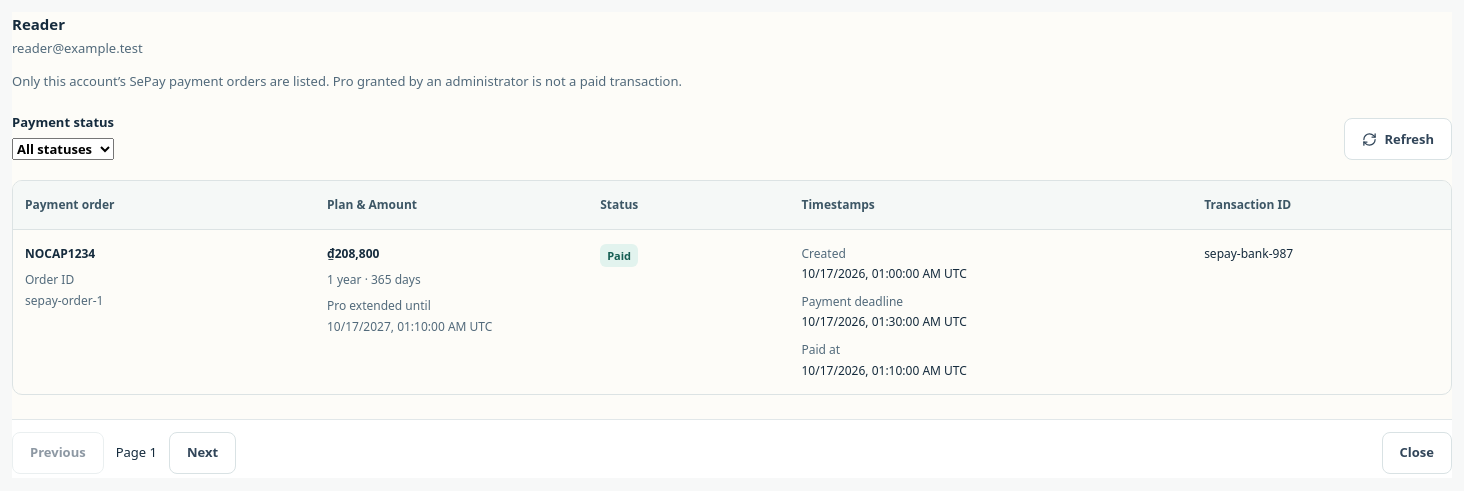
Test case: administrator transaction history › paginates server results and resets to the first page when filtering
Expected: the text "NOCAP1234" is shown, left=25, top=245, right=95, bottom=262
Expected: the button "Previous" is disabled, left=12, top=432, right=104, bottom=474
Click the button "Next" at (203, 453), box left=169, top=432, right=236, bottom=474
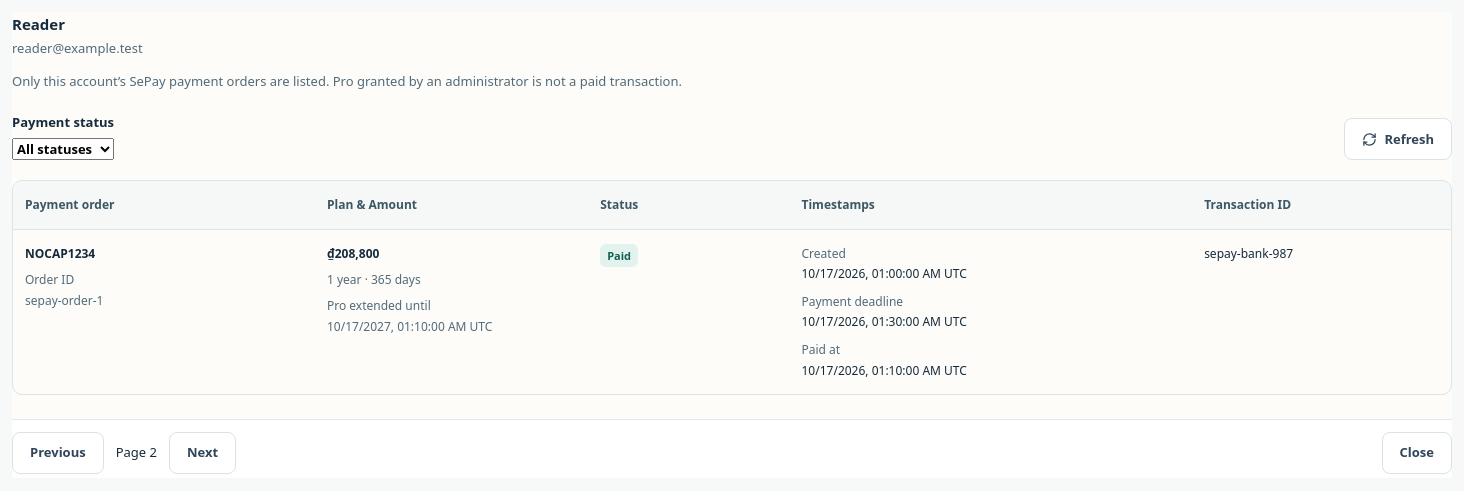
Expected: the text "NOCAP1234" is shown, left=25, top=245, right=95, bottom=262
Result: the text "Page 2" is shown at left=116, top=442, right=157, bottom=463
Select "Expired" in the dropdown labelled "Payment status" at (63, 149), box left=12, top=138, right=114, bottom=160
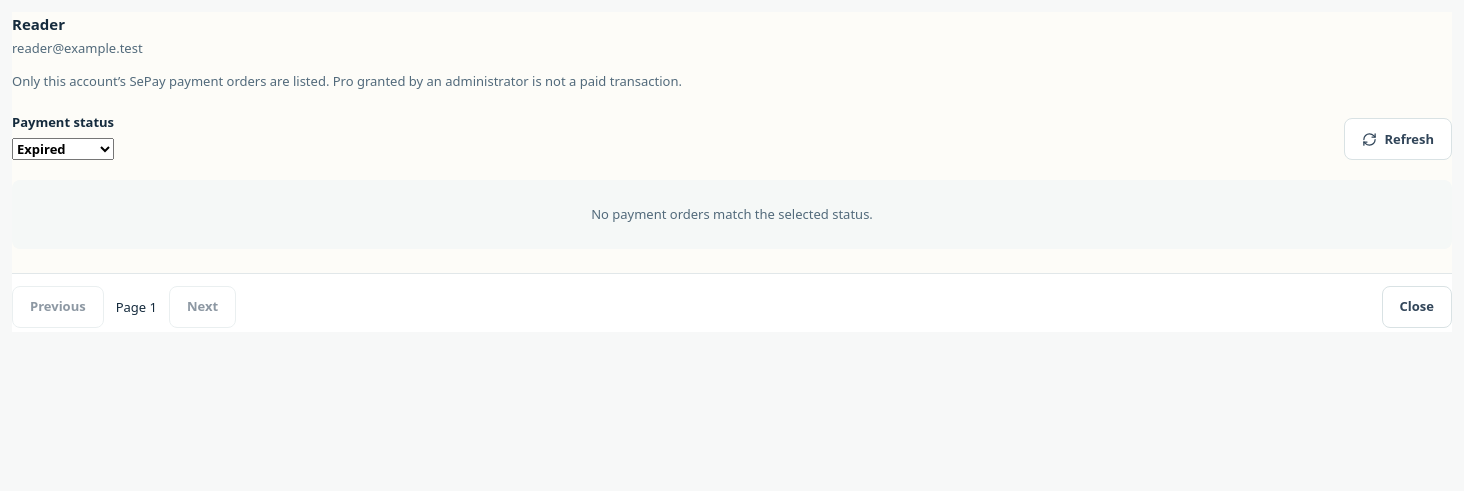
Result: the text "NOCAP1234" is gone
Result: the text "No payment orders match the selected status." is shown at left=12, top=180, right=1452, bottom=249
Result: the text "Page 1" is shown at left=116, top=297, right=157, bottom=318
